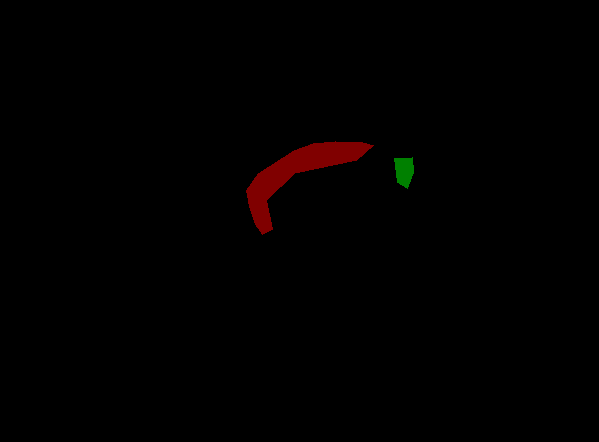fire: (246, 141, 373, 234), (394, 157, 413, 188)
